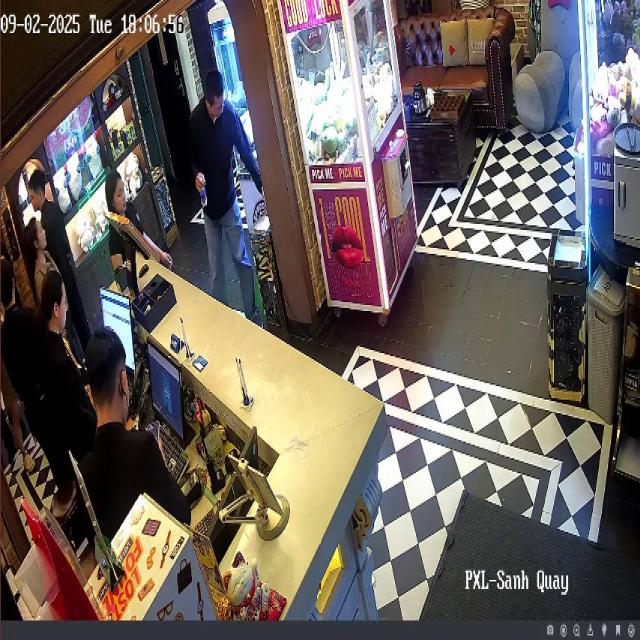khach: (188, 57, 277, 377), (99, 148, 182, 331), (28, 214, 84, 363)
nhan vien: (88, 322, 196, 567), (36, 261, 107, 526), (0, 252, 44, 434)
